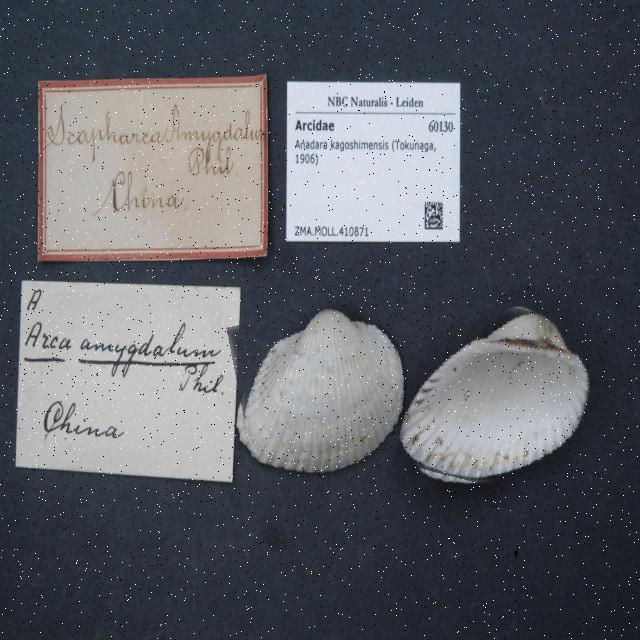Anadara_kagoshimensis: (402, 297, 596, 494), (233, 303, 410, 482)
